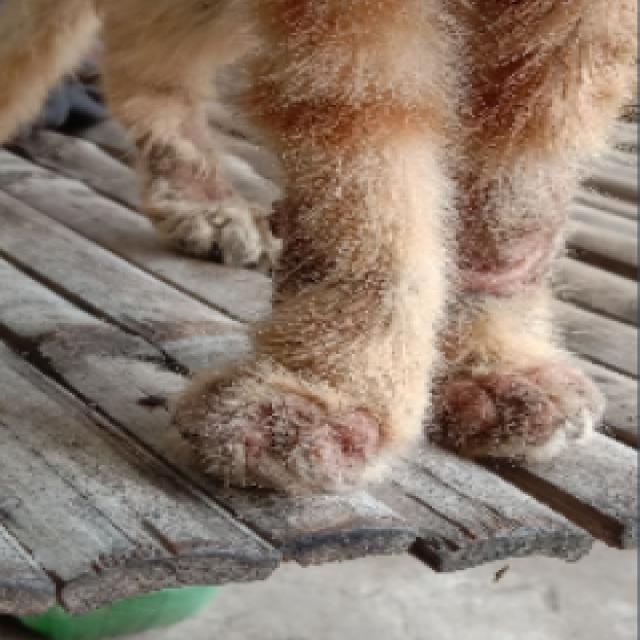ghe: (222, 378, 378, 471)
